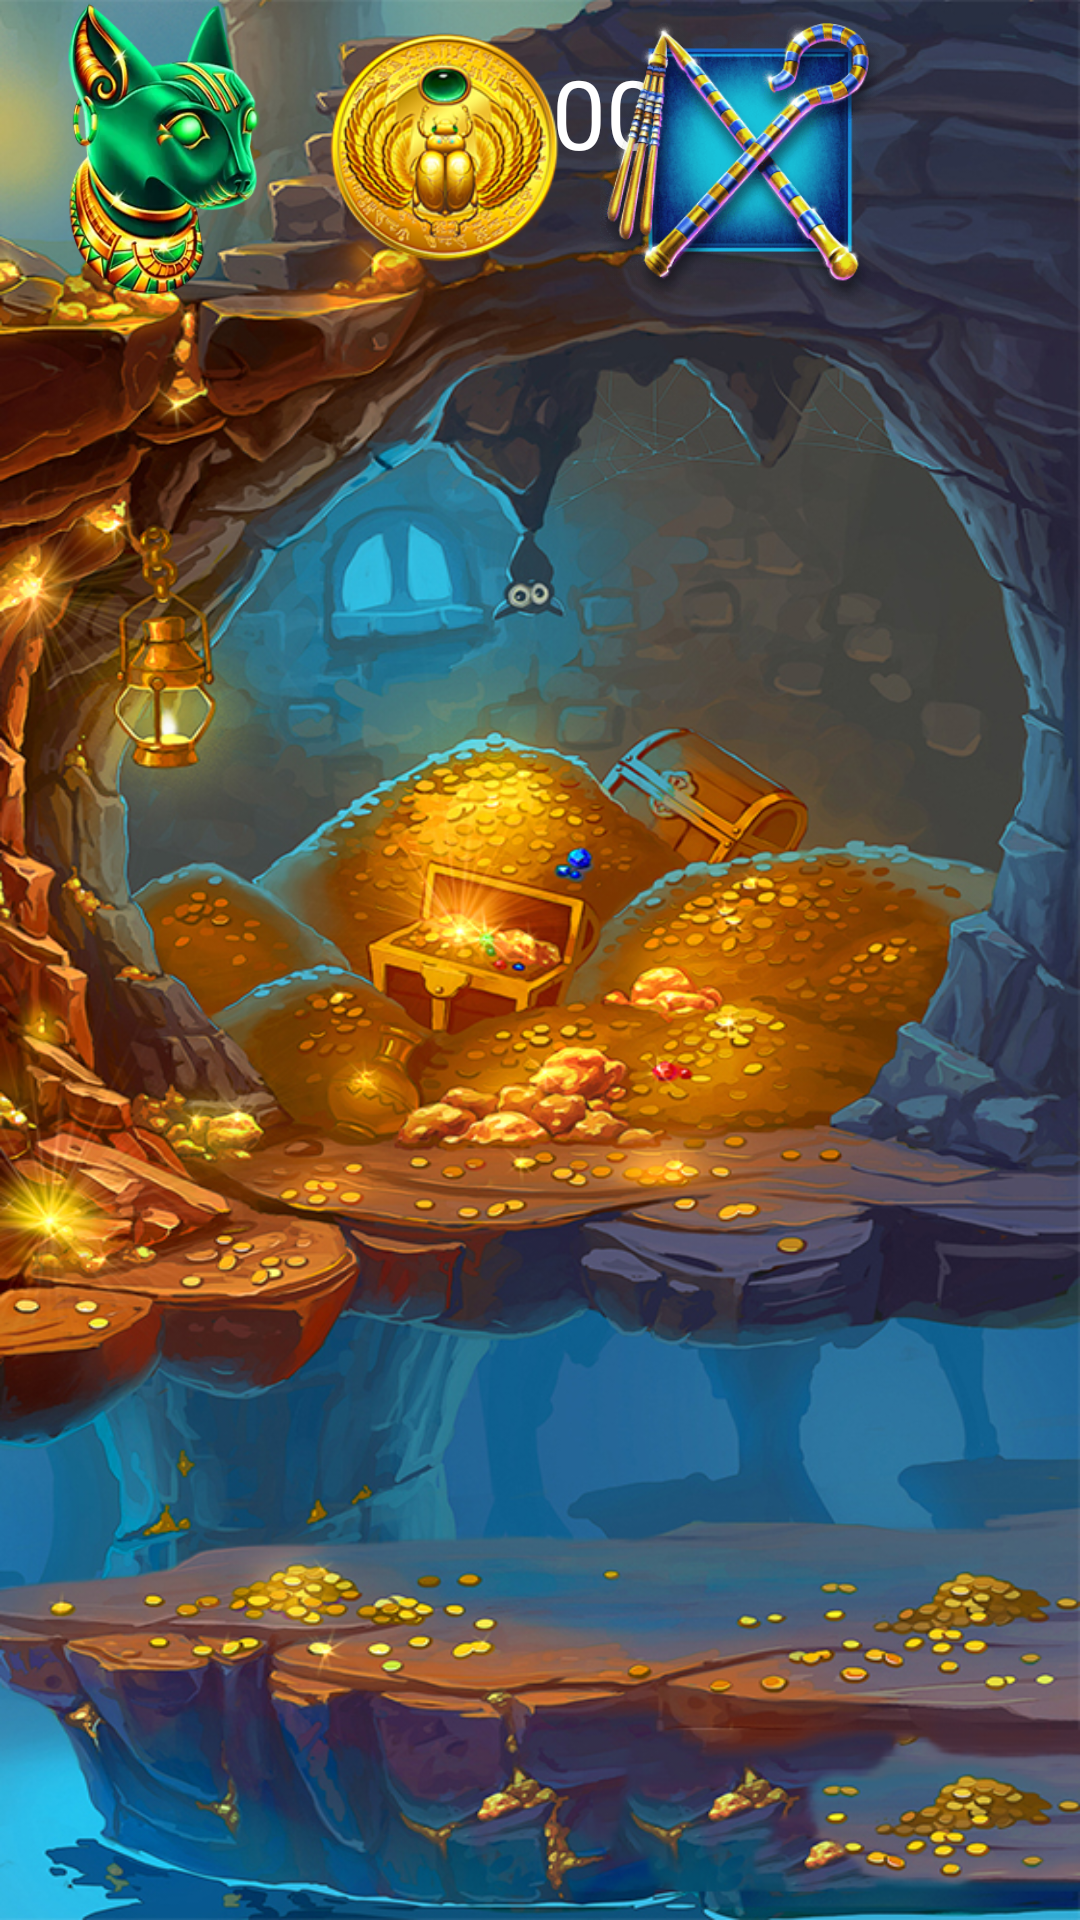

Named icons in this screenshot (1080w x 1920h) and their centers, (x=x, y=y):
cat: (x=150, y=150)
